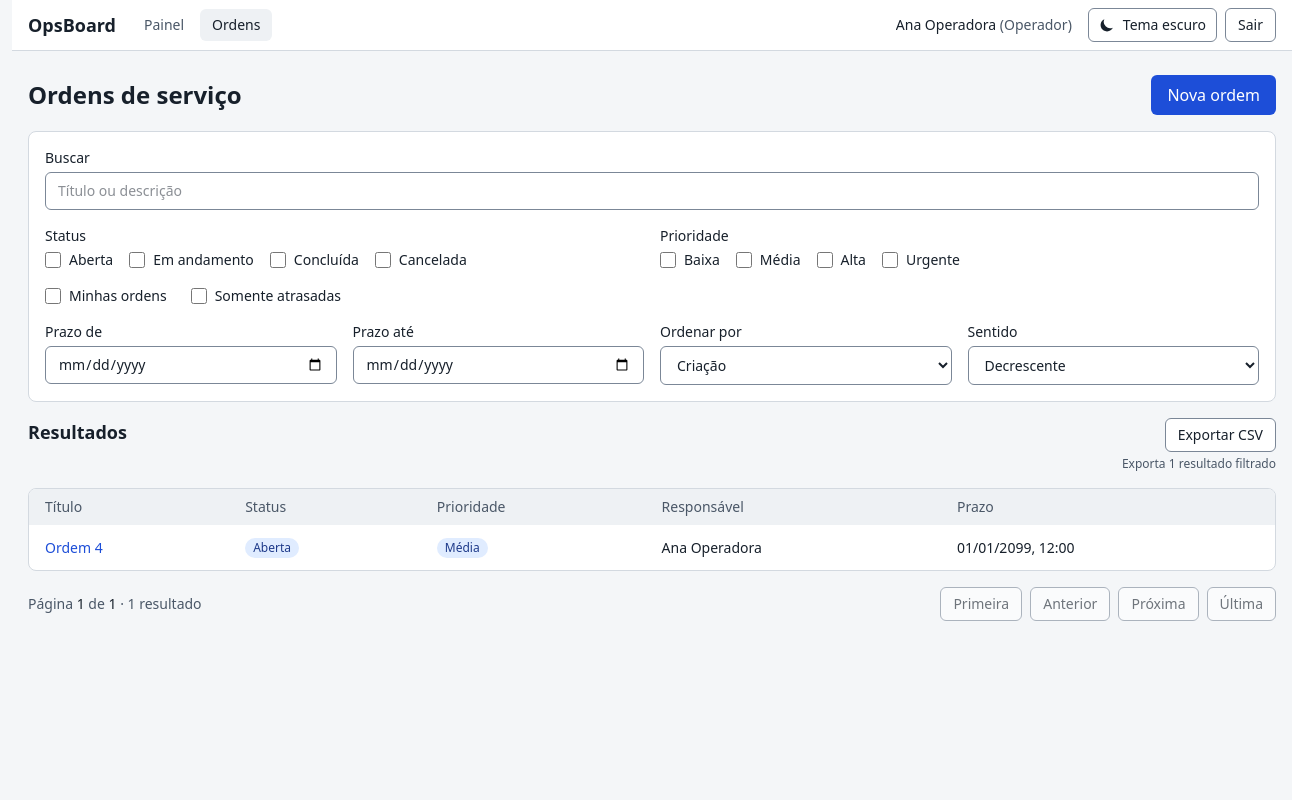
Test: Exportar CSV na lista › 401 na exportação derruba a sessão e leva ao login
Click the button "Exportar CSV".
click(1220, 435)  # box x1=1165 y1=418 x2=1276 y2=452
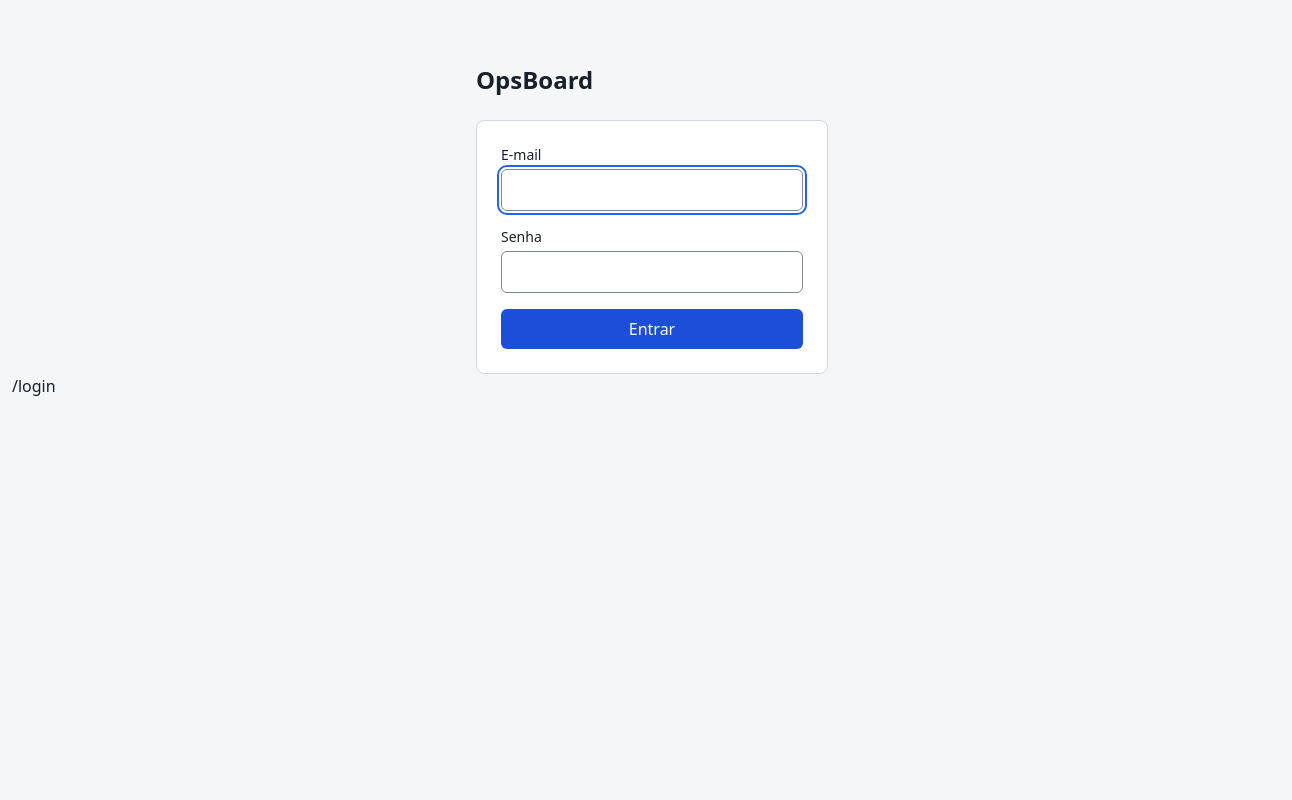
Check: the text named "url" reads "/login", box x1=12 y1=375 x2=56 y2=397
